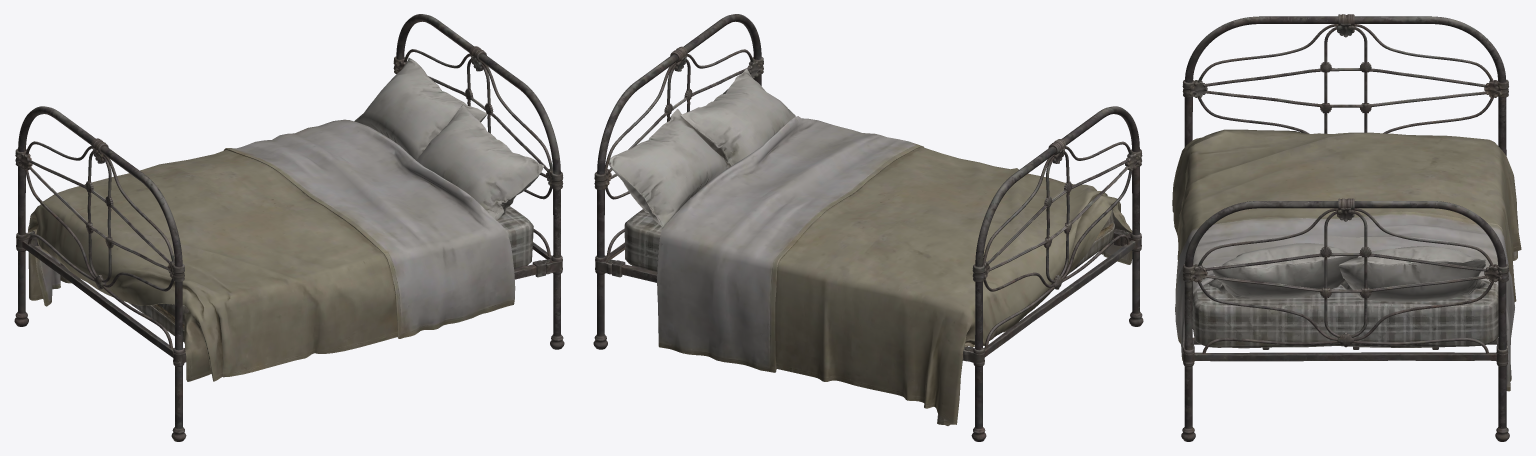
The model's file is bed.glb.
3 renders of one model, left to right at view 1: azimuth 30°, elevation 25°; view 2: azimuth 150°, elevation 25°; view 3: azimuth 270°, elevation 25°, orthographic.
Visible parts, largest first — view 1: SM_Bed_02c2_42_StaticMeshComponent0; view 2: SM_Bed_02c2_42_StaticMeshComponent0; view 3: SM_Bed_02c2_42_StaticMeshComponent0.
Part boxes in pixels (x1,y1,x2,y2): SM_Bed_02c2_42_StaticMeshComponent0: (14, 14, 564, 441); SM_Bed_02c2_42_StaticMeshComponent0: (593, 14, 1143, 441); SM_Bed_02c2_42_StaticMeshComponent0: (1172, 14, 1521, 441).
Bounding box in the file's own units: 2.26 × 1.33 × 1.75.
Materials: 3 (3 with a texture image).
